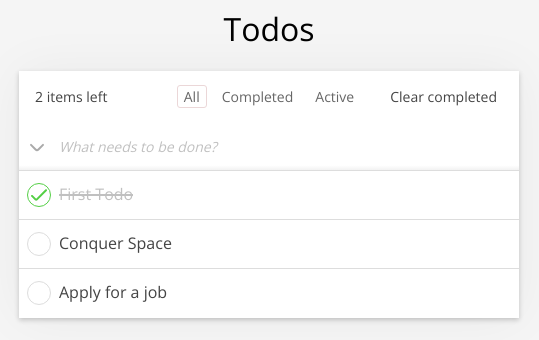
App › фильтрует задачи по статусу
This screenshot has width=539, height=340.
Step 1. Click the button "completed" → (258,97), box x1=215 y1=85 x2=300 y2=108
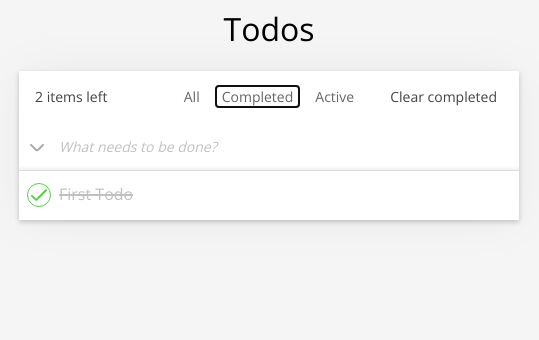
Now the number of list items with test id "todo" is 1, box x1=27 y1=183 x2=133 y2=207
